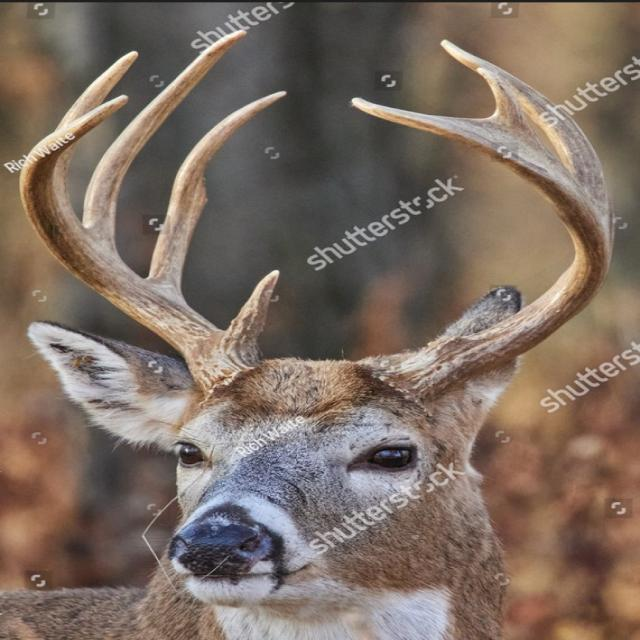E1: (475, 67, 534, 133)
L-F: (349, 97, 610, 416)
R-F: (18, 94, 266, 400)
R-G1: (225, 270, 281, 346)
R-G2: (146, 91, 287, 299)
R-G3: (81, 29, 248, 253)
